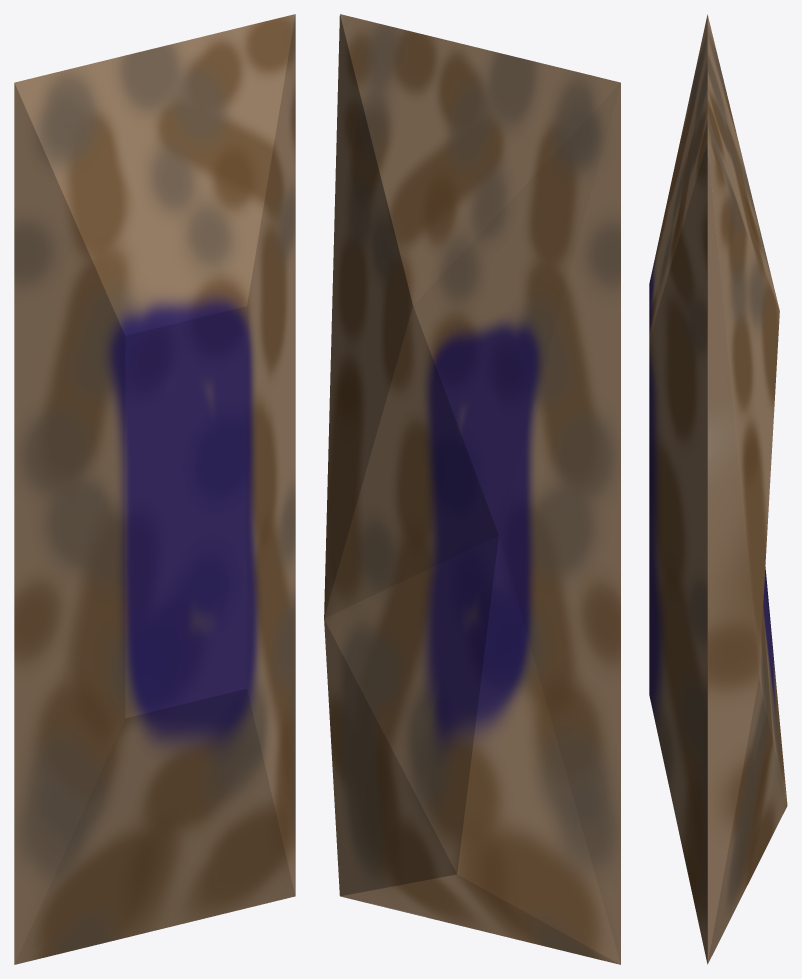
File: wall.obj
3 views of the same model, side by side, from view 1: azimuth 30°, elevation 25°; view 2: azimuth 150°, elevation 25°; view 3: azimuth 270°, elevation 25° (orthographic). The views are drawn at different scales.
Visible parts, largest first — view 1: Wall; view 2: Wall; view 3: Wall.
Part boxes in pixels (x1=…): Wall: x1=14, y1=14, x2=295, y2=964; Wall: x1=324, y1=14, x2=620, y2=964; Wall: x1=649, y1=14, x2=787, y2=964.
Size of the model in its own units: 1 by 3 by 0.456.
